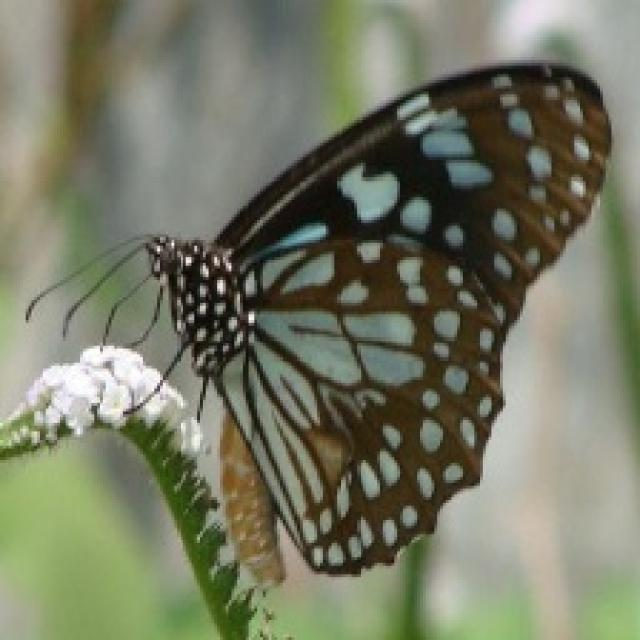butterfly: (23, 57, 611, 589)
